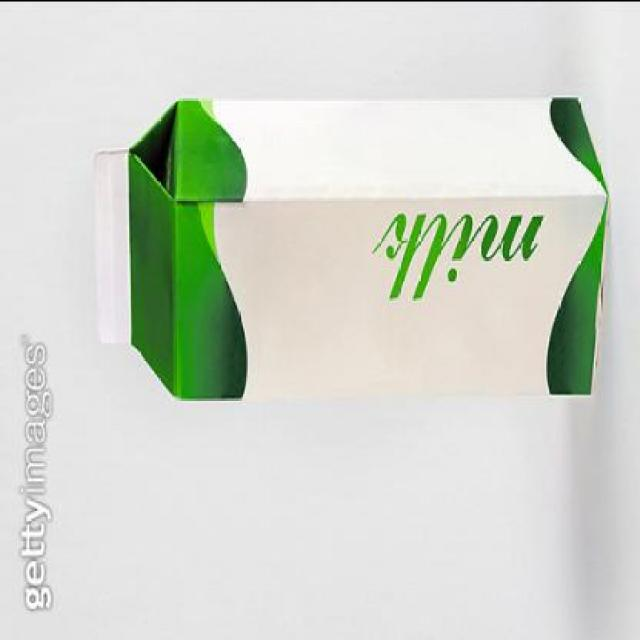non_white_jug: (88, 81, 620, 417)
